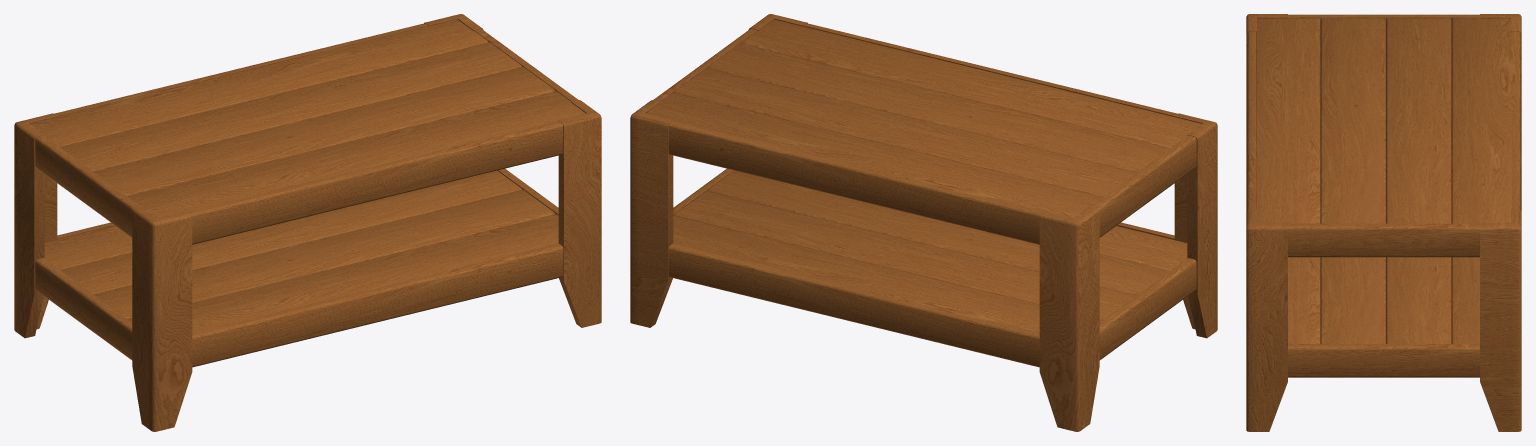
File: CoffeeTable.fbx
3 views of the same model, side by side, from view 1: azimuth 30°, elevation 25°; view 2: azimuth 150°, elevation 25°; view 3: azimuth 270°, elevation 25° (orthographic).
Visible parts, largest first — view 1: CoffeeTable; view 2: CoffeeTable; view 3: CoffeeTable.
Part boxes in pixels (x1,y1,x2,y2): CoffeeTable: (14,14,601,431); CoffeeTable: (630,14,1217,431); CoffeeTable: (1246,14,1521,431).
Size of the model in its own units: 102 by 45.02 by 55.01.
